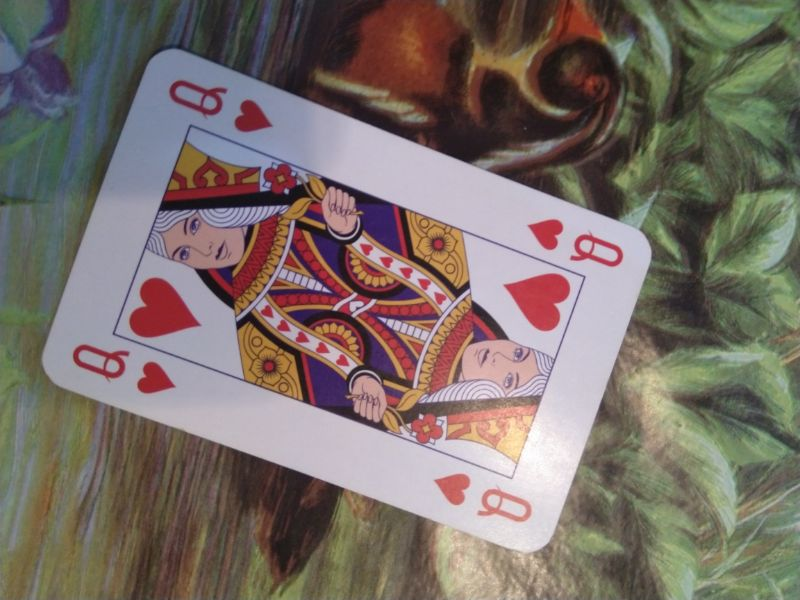Qh: (67, 333, 181, 398), (426, 468, 538, 527), (167, 76, 278, 135), (526, 213, 626, 272)
